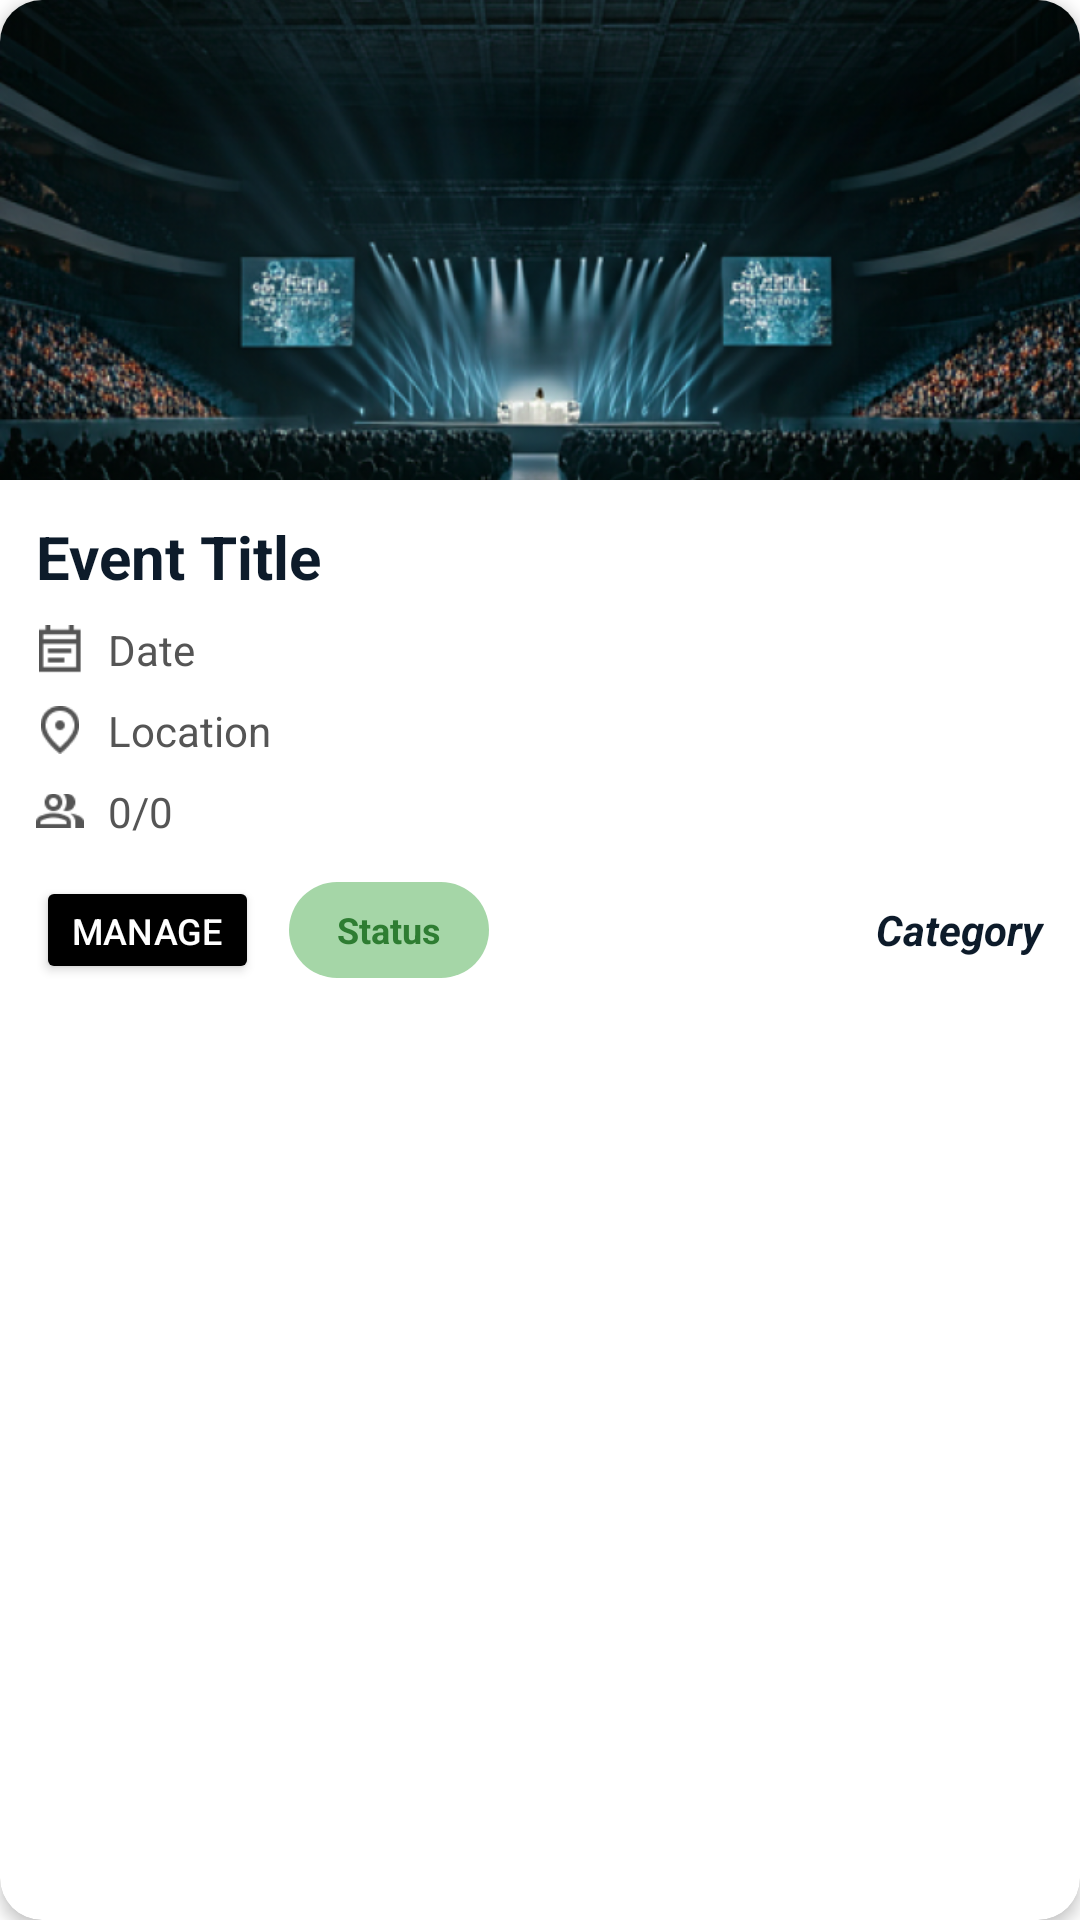

Point at icon controls on the screen. Image size 1080*1920, points as (x=x, y=y).
people: (x=60, y=811)
